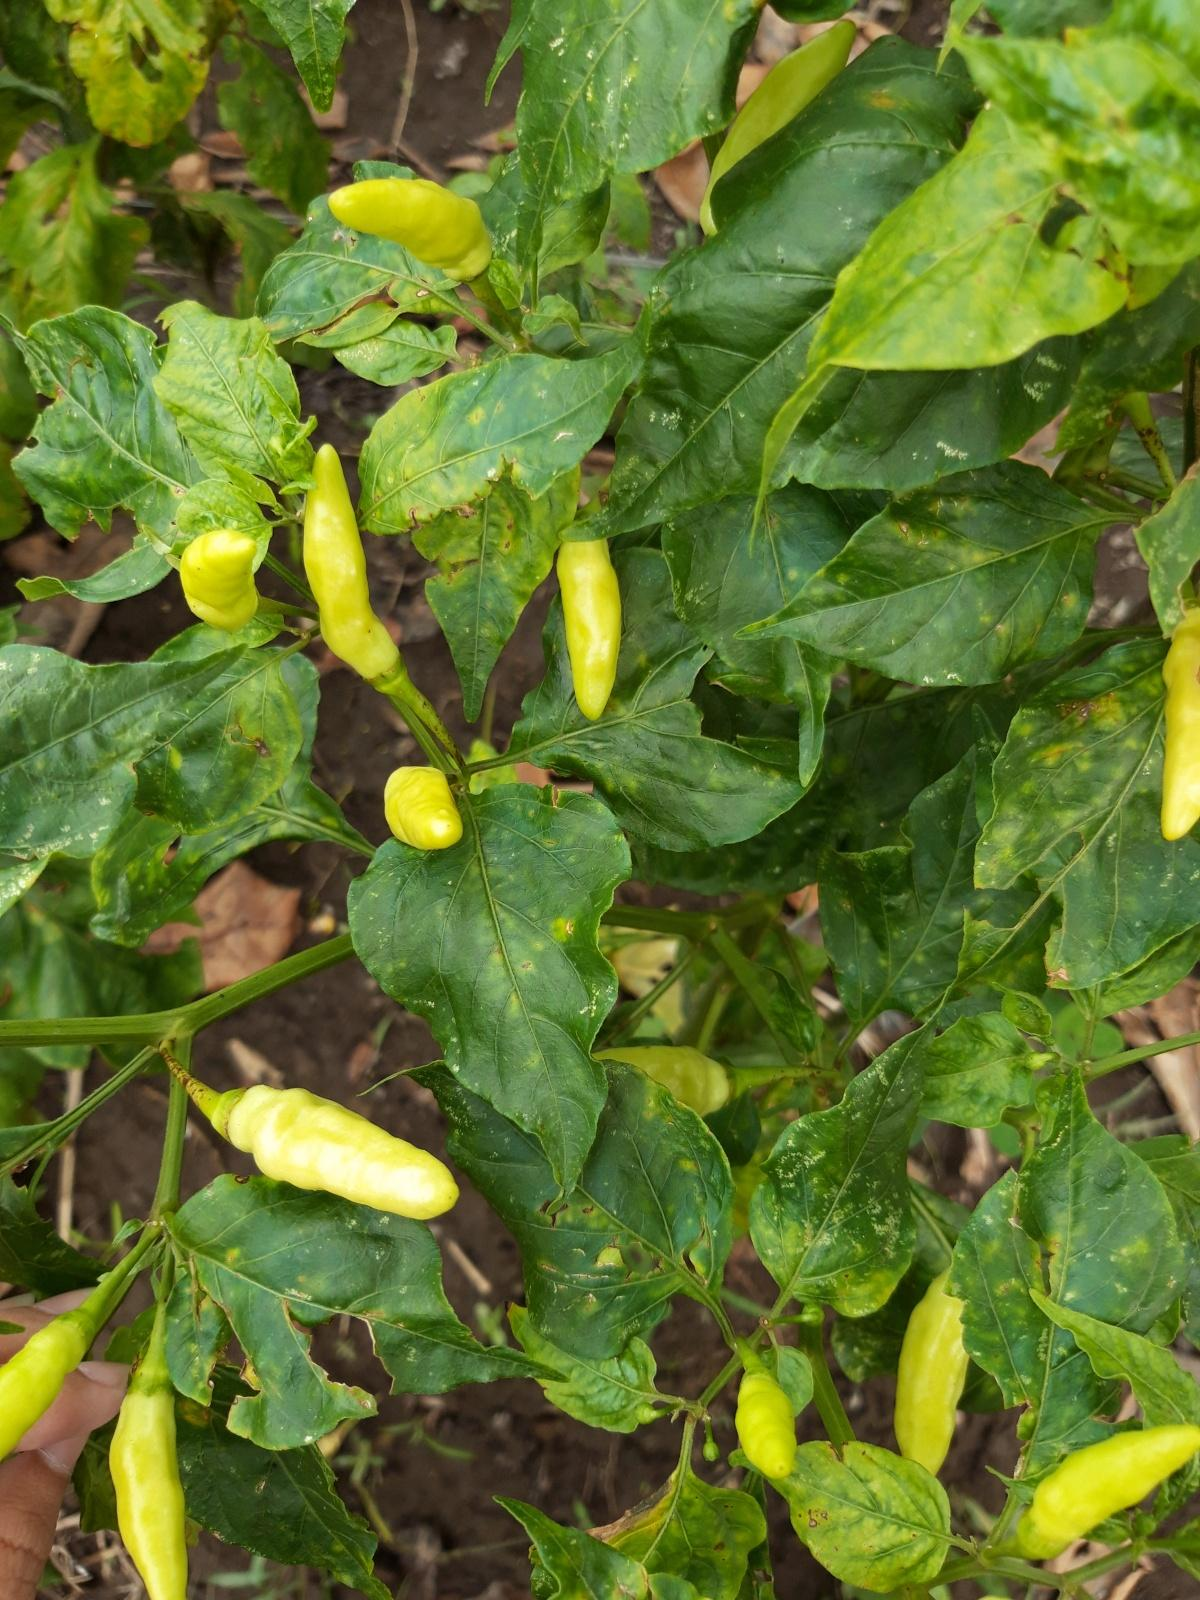cabai_normal: (227, 1086, 459, 1214), (303, 442, 402, 677), (1025, 1424, 1200, 1551), (108, 1377, 190, 1587), (894, 1267, 974, 1477), (330, 178, 492, 278), (555, 534, 620, 722), (0, 1315, 92, 1427), (1163, 615, 1200, 838), (182, 530, 258, 630), (383, 763, 460, 845), (736, 1374, 794, 1478)
